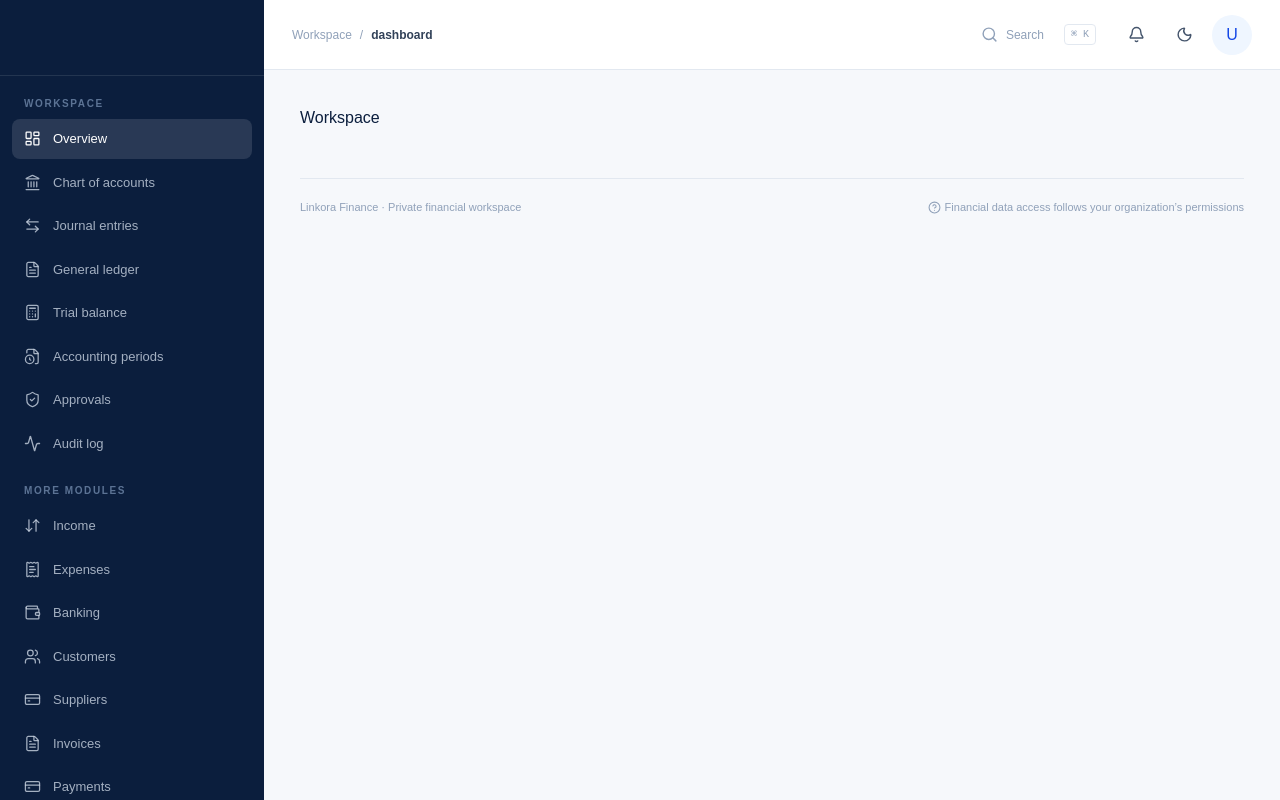
Scenario: workspace shell › distinguishes an empty inbox from a failed inbox query
The image size is (1280, 800).
Later steps or results of the test are not shown.
Click the button named "Workflow inbox" at coordinates (1136, 34), box left=1116, top=14, right=1156, bottom=54
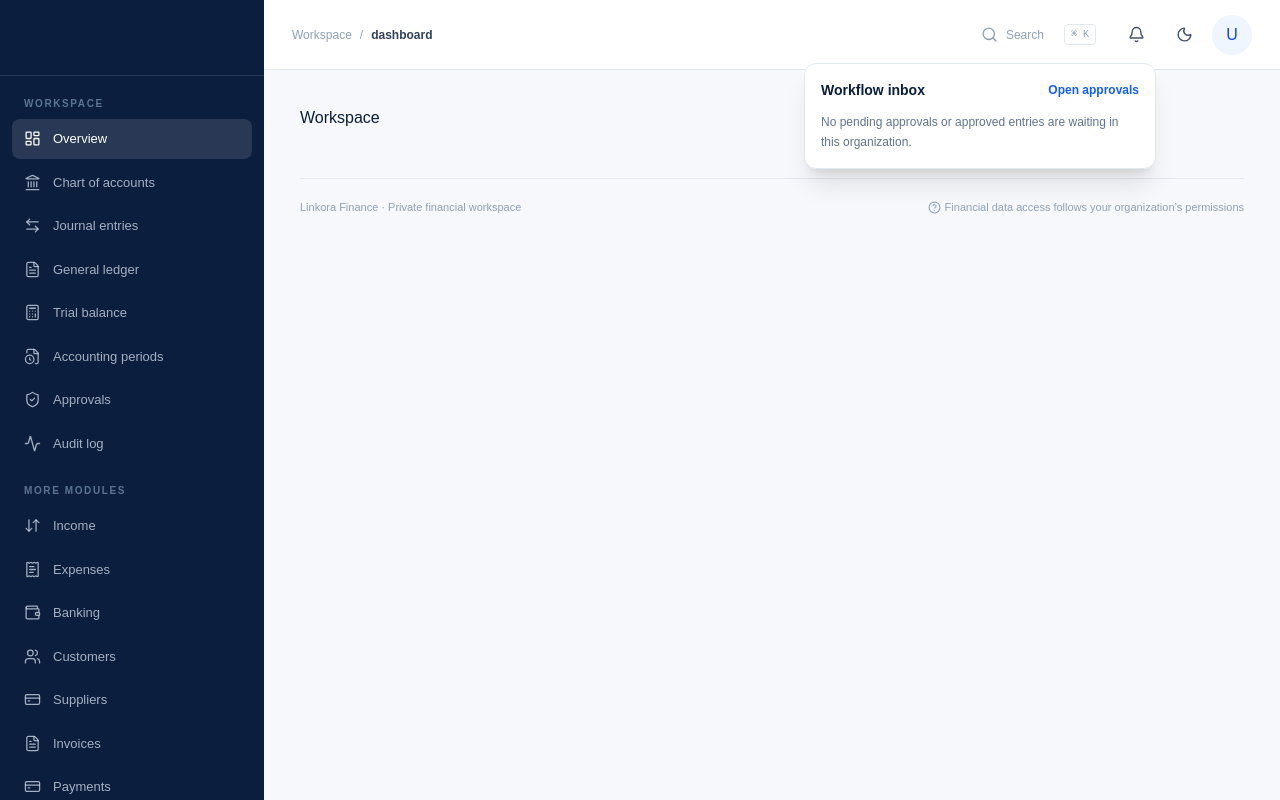
Check: the text "No pending approvals or approved entries are waiting in this organization." is shown, box left=821, top=112, right=1139, bottom=152
